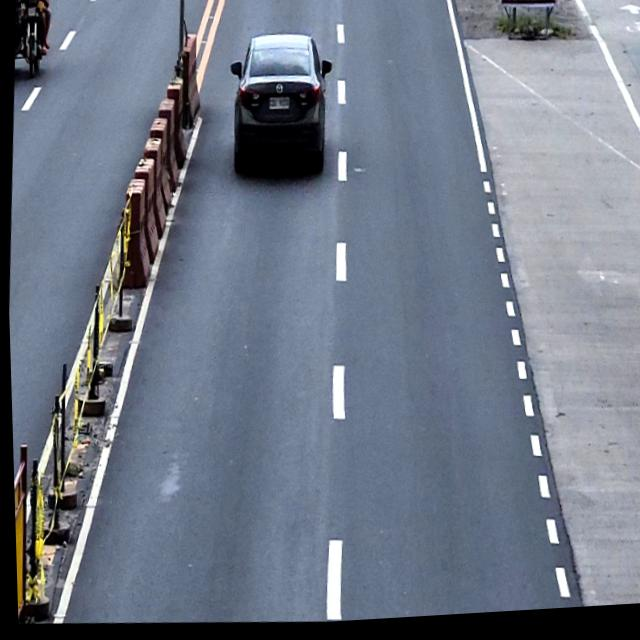Car: (224, 31, 336, 179)
License-Plate: (267, 97, 290, 115)
Tricycle: (12, 0, 51, 79)
